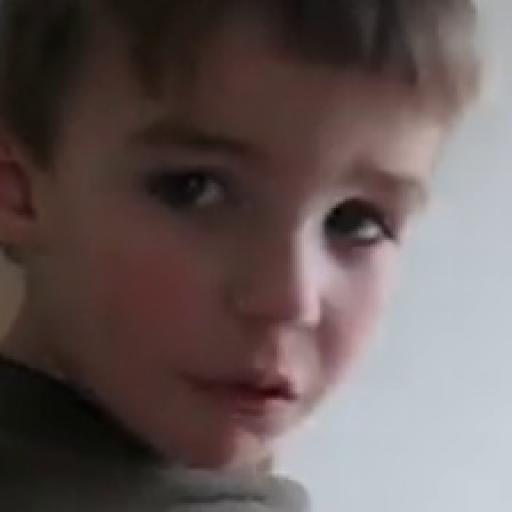Autism: (55, 22, 466, 467)
